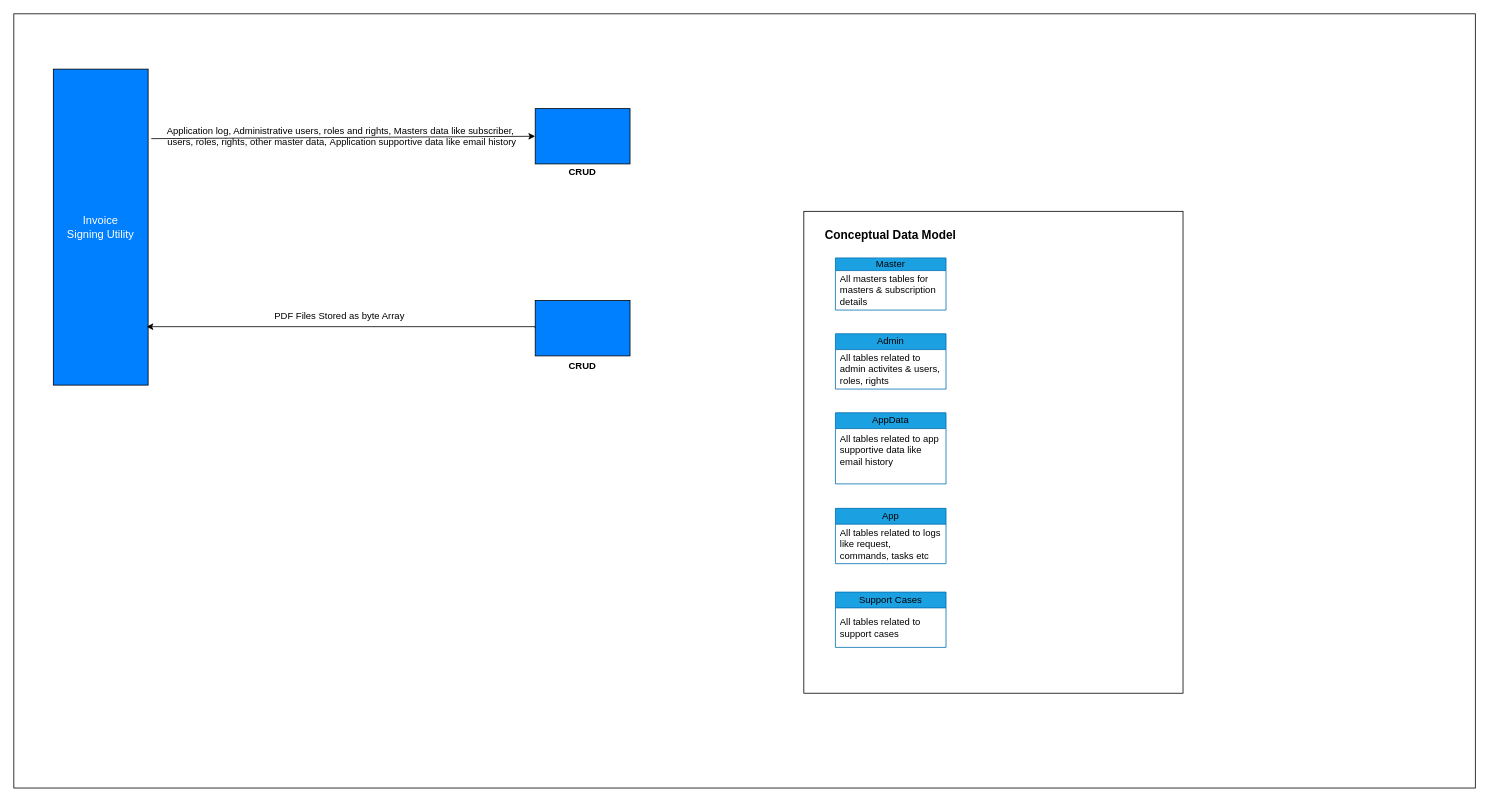
The diagram is 1489 pixels wide and 802 high, and some of its shapes have lost their labels. Here are the shapes that lost their labels. From the top down, the centre of each, then its label:
At [582,136]: "DocumentSigner".
At [582,328]: "FileStore".
